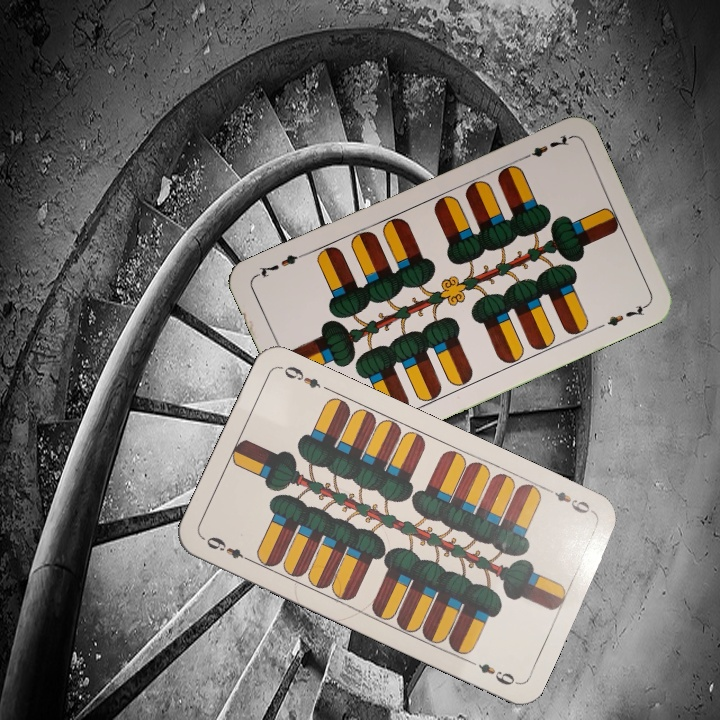E7: (517, 131, 572, 164)
E9: (199, 532, 255, 565), (542, 484, 597, 517)
